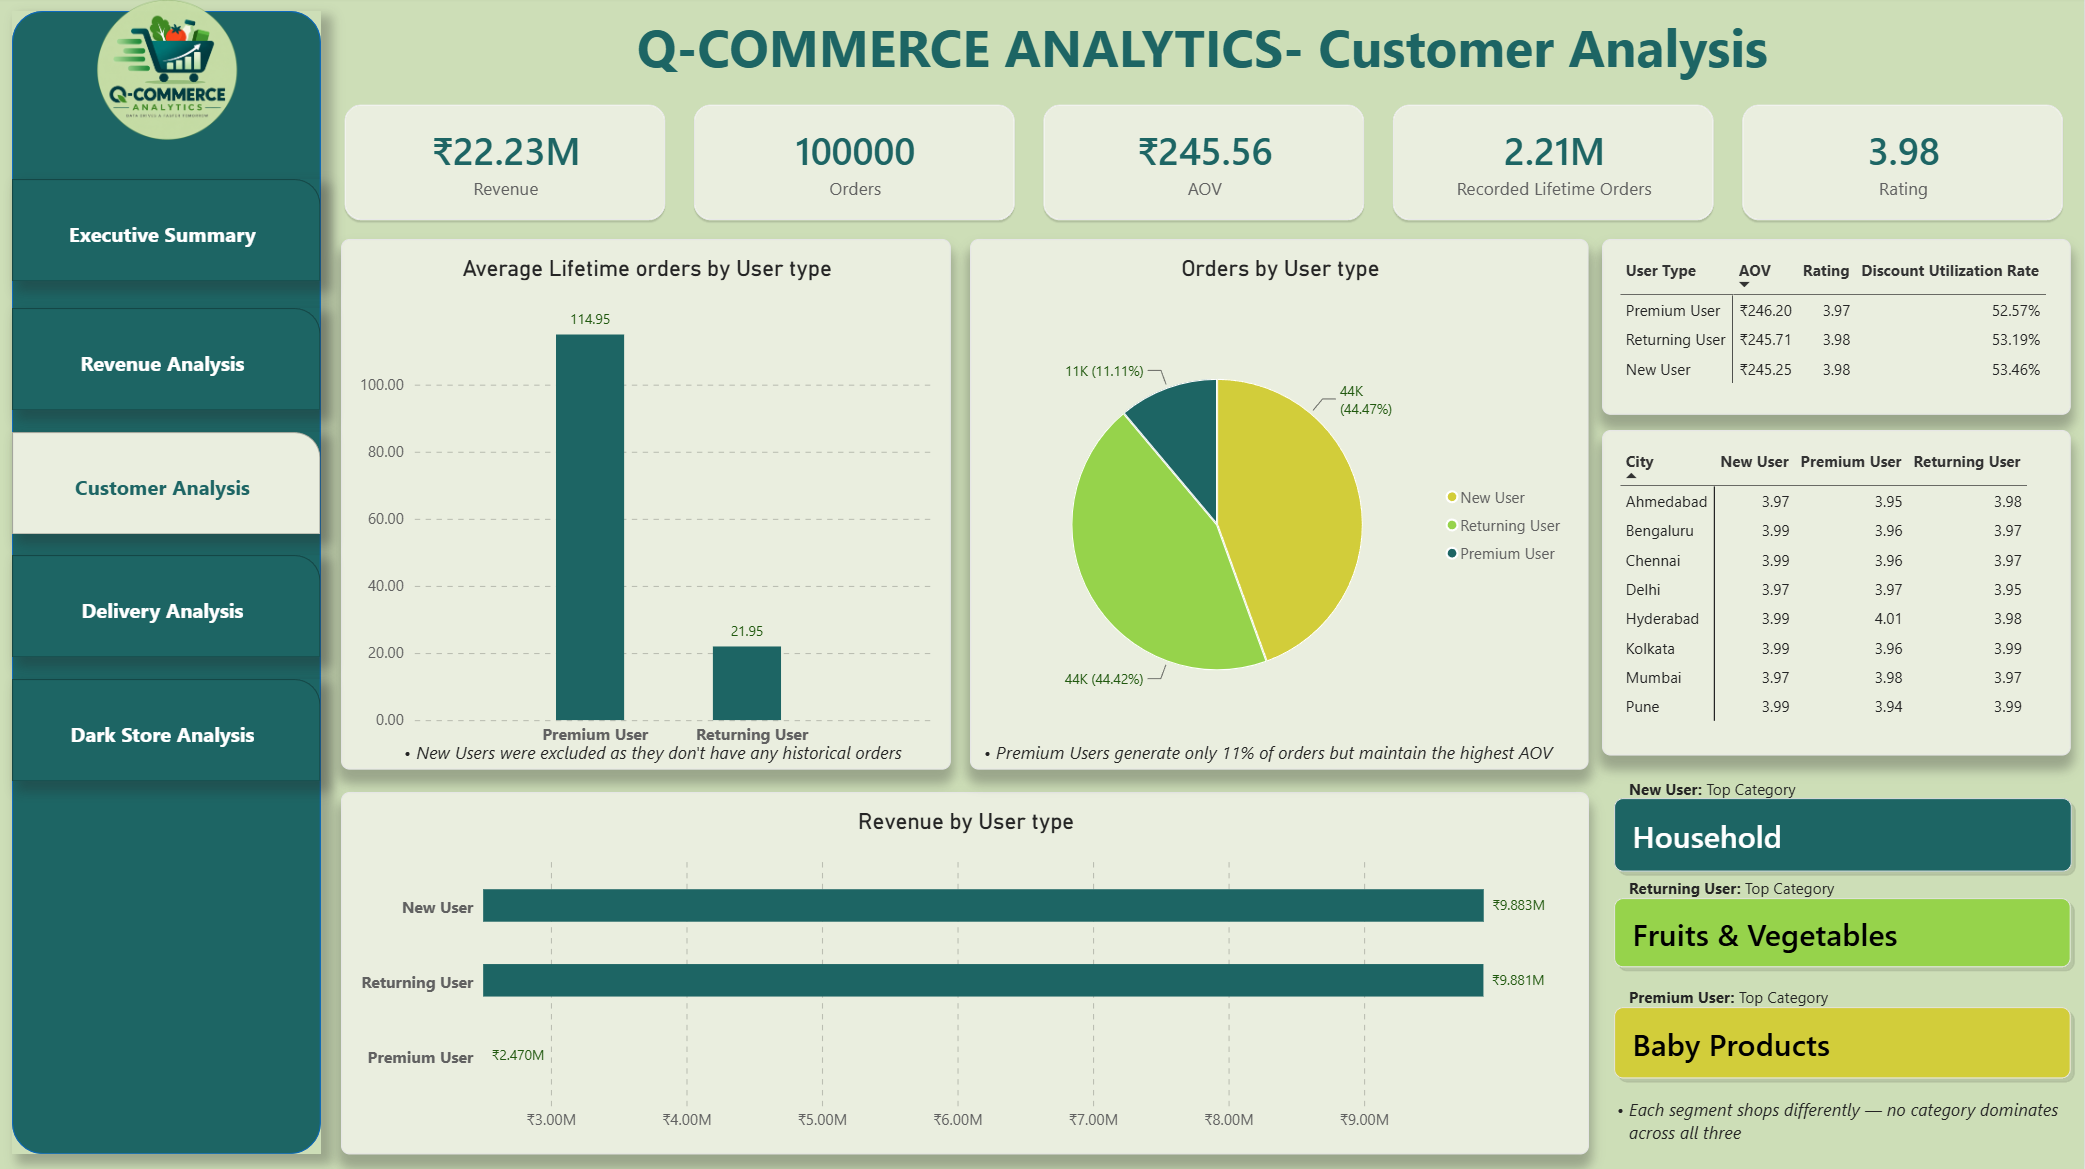

The page's visual inventory and layout, read from the dashboard file:
{"tool":"powerbi","page":{"name":"Customer Analysis","canvas":[1920,1080],"ordinal":2},"visuals":[{"type":"textbox","box":[295.8,12.9,1624.6,81.1],"z":0},{"type":"shape","box":[11.1,12.5,284.6,1053.4],"z":1000},{"type":"cardVisual","fields":{"Data":["Measure Table.Revenue","Measure Table.Total Orders","Measure Table.AOV","Sum(qcommerce_2015_cleaned.customer_lifetime_orders)","Measure Table.Average Customer Rating"]},"box":[314.1,95.9,1594.5,113.9],"z":2000},{"type":"clusteredColumnChart","title":"Average Lifetime orders by User type","fields":{"Category":["qcommerce_2015_cleaned.user_type"],"Y":["Avg(qcommerce_2015_cleaned.customer_lifetime_orders)"]},"box":[314.2,223,562.1,489.3],"z":3000},{"type":"clusteredBarChart","title":"Revenue by User type","fields":{"Category":["qcommerce_2015_cleaned.user_type"],"Y":["Measure Table.Revenue"]},"box":[314.2,732.6,1150,333.6],"z":4000},{"type":"pivotTable","fields":{"Rows":["qcommerce_2015_cleaned.user_type"],"Values":["Measure Table.AOV","Measure Table.Average Customer Rating","Measure Table.Discount Utilization Rate"]},"box":[1476.2,223,432.2,162.2],"z":5000},{"type":"textbox","box":[314.2,685.6,562.1,26.7],"z":6000},{"type":"pivotTable","fields":{"Columns":["qcommerce_2015_cleaned.user_type"],"Rows":["qcommerce_2015_cleaned.city"],"Values":["Measure Table.Average Customer Rating"]},"box":[1476.2,399,432.2,300.4],"z":7000},{"type":"pieChart","title":"Orders by User type","fields":{"Category":["qcommerce_2015_cleaned.user_type"],"Y":["Measure Table.Total Orders"]},"box":[893.9,223,570.4,489.3],"z":8000},{"type":"textbox","box":[1501.1,720.6,254.6,24],"z":9000},{"type":"textbox","box":[1501.1,811.8,254.3,24.9],"z":10000},{"type":"textbox","box":[1501.1,912.3,227.6,24.9],"z":11000},{"type":"cardVisual","fields":{"Data":["Min(qcommerce_2015_cleaned.category)"]},"box":[1481.8,732.6,433.1,79.2],"z":12000},{"type":"cardVisual","fields":{"Data":["Min(qcommerce_2015_cleaned.category)"]},"box":[1481.8,824.7,432.2,75.6],"z":13000},{"type":"cardVisual","fields":{"Data":["Min(qcommerce_2015_cleaned.category)"]},"box":[1481.8,925.2,432.2,77.4],"z":14000},{"type":"textbox","box":[1477.2,1014.6,422,51.6],"z":15000},{"type":"textbox","box":[893.9,685.6,570.4,26.7],"z":16000},{"type":"shape","title":"Executive Summery","box":[11.4,167.8,284.2,94.4],"z":16001},{"type":"shape","box":[11.4,286.6,284.2,94.4],"z":16002},{"type":"shape","box":[11.4,628.5,284.2,94.4],"z":16003},{"type":"shape","box":[11.4,400.5,284.2,94.4],"z":16004},{"type":"shape","box":[11.4,514.5,284.2,94.4],"z":16005},{"type":"image","box":[68.7,0,169.8,135.4],"z":16006}]}

Visuals, with their boxes on the page's 1920x1080 design canvas (x1, y1, x2, y2). These are canvas units, not pixel positions in the 2085x1169 screenshot, which may show the page scaled, cropped or inside an application window:
textbox: x1=296 y1=13 x2=1920 y2=94
shape: x1=11 y1=12 x2=296 y2=1066
cardVisual - Measure Table.Revenue x Measure Table.Total Orders: x1=314 y1=96 x2=1909 y2=210
"Average Lifetime orders by User type" clusteredColumnChart: x1=314 y1=223 x2=876 y2=712
"Revenue by User type" clusteredBarChart: x1=314 y1=733 x2=1464 y2=1066
pivotTable - qcommerce_2015_cleaned.user_type x Measure Table.AOV: x1=1476 y1=223 x2=1908 y2=385
textbox: x1=314 y1=686 x2=876 y2=712
pivotTable - qcommerce_2015_cleaned.user_type x qcommerce_2015_cleaned.city: x1=1476 y1=399 x2=1908 y2=699
"Orders by User type" pieChart: x1=894 y1=223 x2=1464 y2=712
textbox: x1=1501 y1=721 x2=1756 y2=745
textbox: x1=1501 y1=812 x2=1755 y2=837
textbox: x1=1501 y1=912 x2=1729 y2=937
cardVisual - Min(qcommerce_2015_cleaned.category): x1=1482 y1=733 x2=1915 y2=812
cardVisual - Min(qcommerce_2015_cleaned.category): x1=1482 y1=825 x2=1914 y2=900
cardVisual - Min(qcommerce_2015_cleaned.category): x1=1482 y1=925 x2=1914 y2=1003
textbox: x1=1477 y1=1015 x2=1899 y2=1066
textbox: x1=894 y1=686 x2=1464 y2=712
"Executive Summery" shape: x1=11 y1=168 x2=296 y2=262
shape: x1=11 y1=287 x2=296 y2=381
shape: x1=11 y1=628 x2=296 y2=723
shape: x1=11 y1=400 x2=296 y2=495
shape: x1=11 y1=514 x2=296 y2=609
image: x1=69 y1=0 x2=238 y2=135
